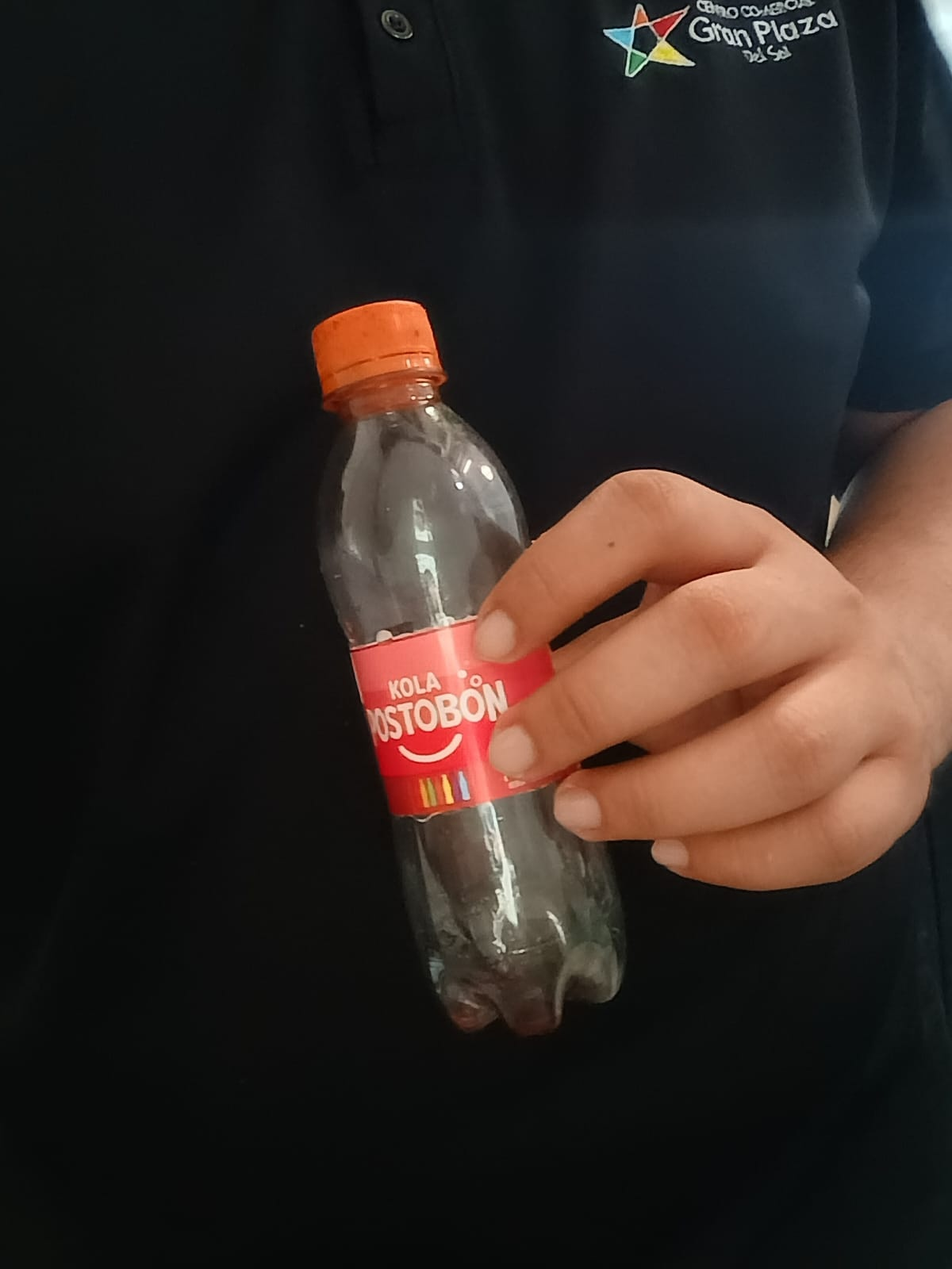Plastico: (306, 303, 627, 1032)
